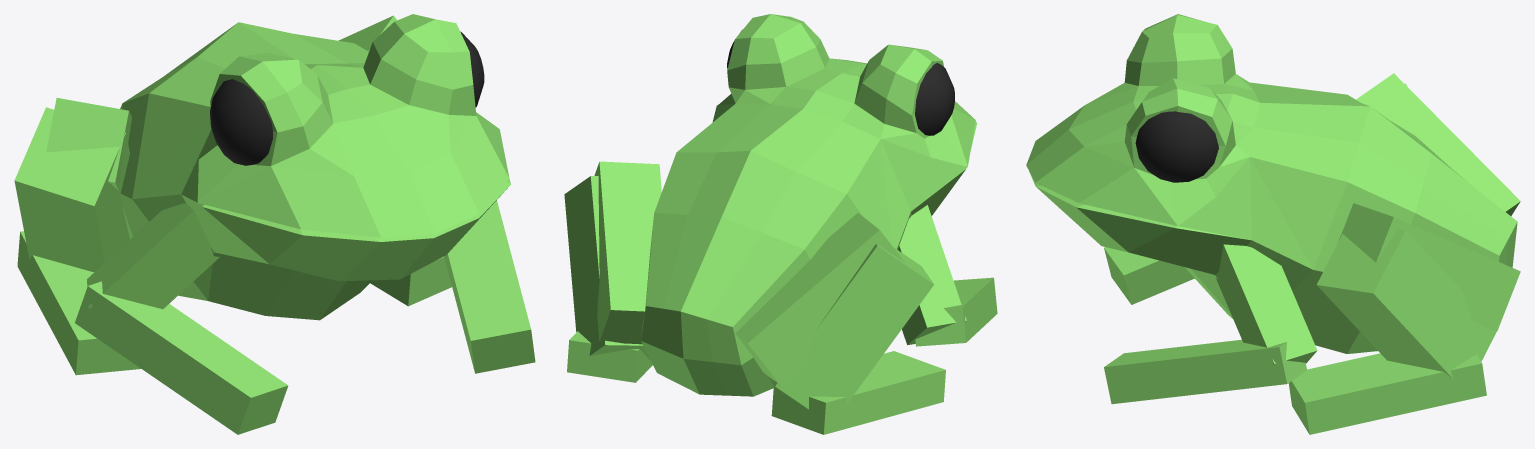
Rendered from froggy_mesh.glb.
The picture shows the model from 3 angles, left to right: view 1: azimuth 30°, elevation 25°; view 2: azimuth 150°, elevation 25°; view 3: azimuth 270°, elevation 25°; orthographic projection. The views are drawn at different scales.
Visible parts, largest first — view 1: frogy_mesh, Cube.002, Cube.004, Cube.005, Cube.001, Sphere, Cube.003; view 2: frogy_mesh, Cube.003, Cube.004, Cube.005, Cube.001, Cube.002, Sphere; view 3: frogy_mesh, Cube.004, Cube.003, Cube.002, Cube.005, Cube.001, Sphere.
Part boxes in pixels (x1,y1,x2,y2): frogy_mesh: (120, 14, 510, 320); Cube.002: (75, 200, 535, 434); Cube.004: (14, 107, 129, 272); Cube.005: (17, 231, 451, 375); Cube.001: (87, 203, 219, 309); Sphere: (210, 31, 484, 165); Cube.003: (46, 15, 396, 190); frogy_mesh: (641, 14, 977, 396); Cube.003: (594, 161, 904, 386); Cube.004: (564, 176, 933, 409); Cube.005: (567, 331, 945, 434); Cube.001: (898, 205, 966, 345); Cube.002: (915, 277, 997, 346); Sphere: (727, 29, 954, 135); frogy_mesh: (1026, 14, 1517, 353); Cube.004: (1316, 83, 1496, 378); Cube.003: (1338, 73, 1520, 331); Cube.002: (1104, 247, 1306, 404); Cube.005: (1288, 353, 1486, 434); Cube.001: (1216, 244, 1317, 364); Sphere: (1135, 111, 1218, 182).
Size of the model in its own units: 0.9443 by 0.6986 by 1.04.
